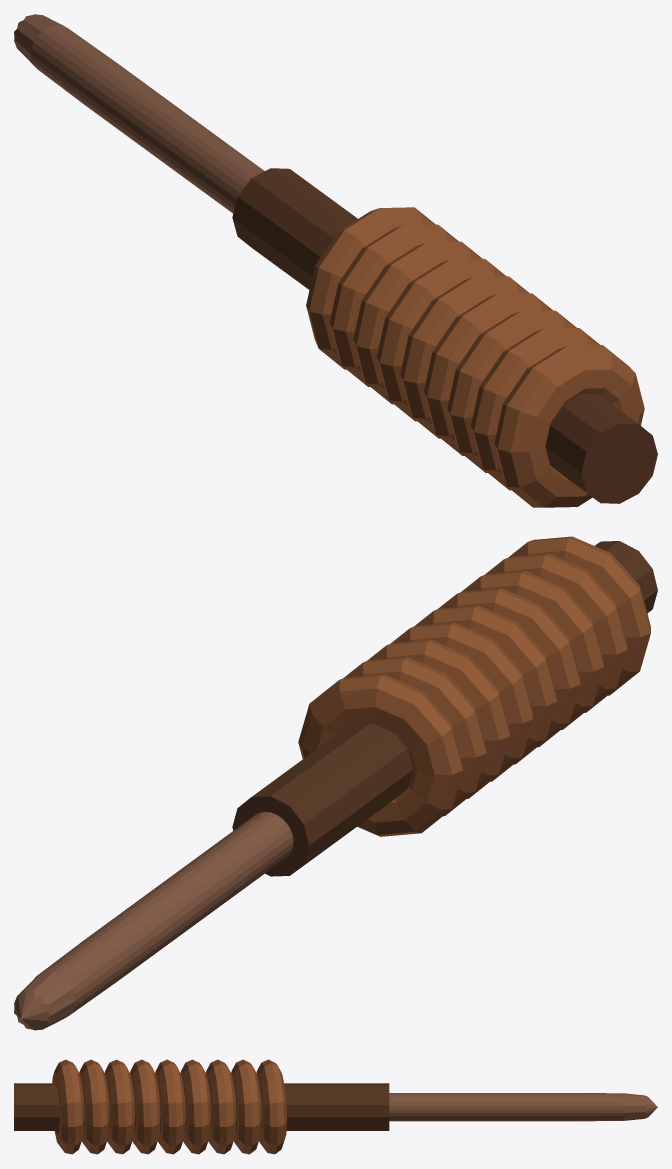
Rendered from Wand 9.glb.
3 views of the same model, one above another, from view 1: azimuth 30°, elevation 25°; view 2: azimuth 150°, elevation 25°; view 3: azimuth 270°, elevation 25° (orthographic). The views are drawn at different scales.
Visible parts, largest first — view 1: GeneratedWand; view 2: GeneratedWand; view 3: GeneratedWand.
Boxes of the visible parts, x1,y1,x2,y2 form: GeneratedWand: (14,14,657,507); GeneratedWand: (14,536,657,1030); GeneratedWand: (14,1059,657,1154).
Bounding box in the file's own units: 0.0709 × 0.0714 × 0.4815.
